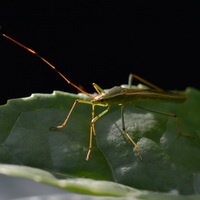insect: (2, 34, 186, 159)
